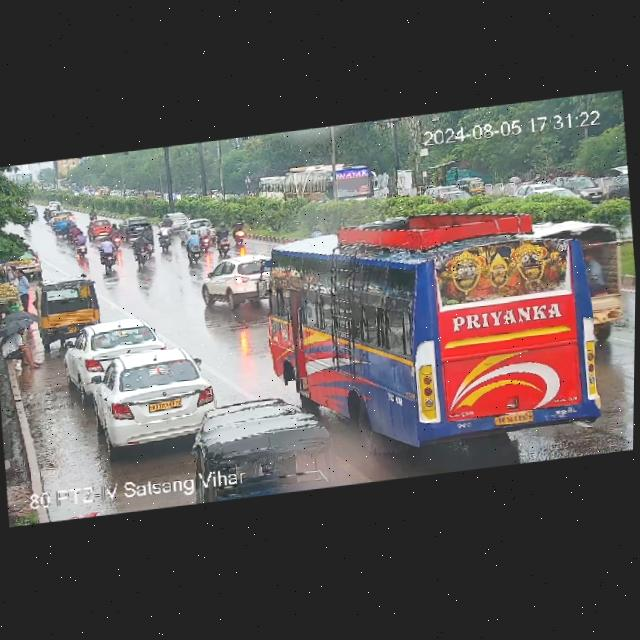bus: (253, 187, 611, 461), (248, 160, 381, 218)
car: (197, 386, 330, 492), (90, 343, 217, 448), (68, 318, 166, 390), (198, 253, 281, 314), (34, 274, 103, 344), (177, 211, 214, 236), (20, 244, 46, 276), (51, 210, 76, 238), (88, 218, 110, 238), (171, 211, 191, 231), (46, 198, 62, 211)
motorcycle: (183, 232, 207, 267), (213, 224, 237, 256), (97, 234, 114, 270), (132, 231, 149, 266), (228, 218, 249, 245), (157, 223, 174, 252), (75, 228, 90, 260), (142, 224, 155, 254), (198, 221, 211, 251), (111, 219, 122, 248), (44, 206, 52, 224), (89, 208, 97, 219), (163, 214, 170, 224)
person: (0, 321, 45, 376), (14, 269, 32, 312), (7, 264, 19, 283)
truck: (577, 205, 635, 338)
